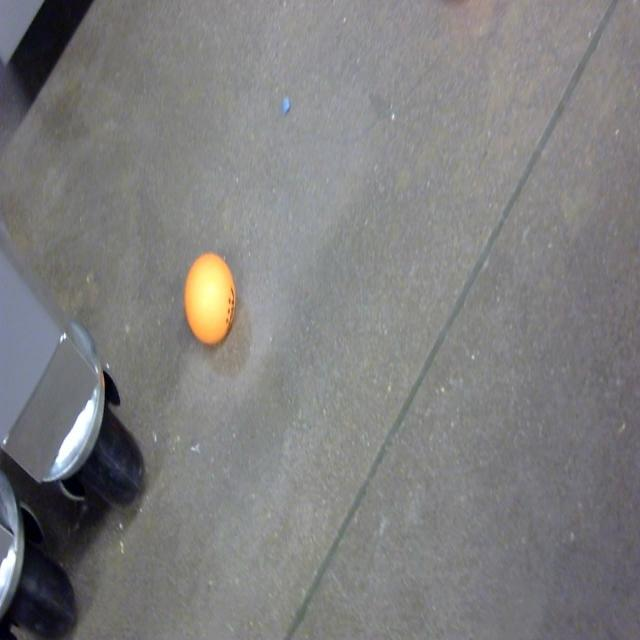ball: (184, 248, 235, 348)
